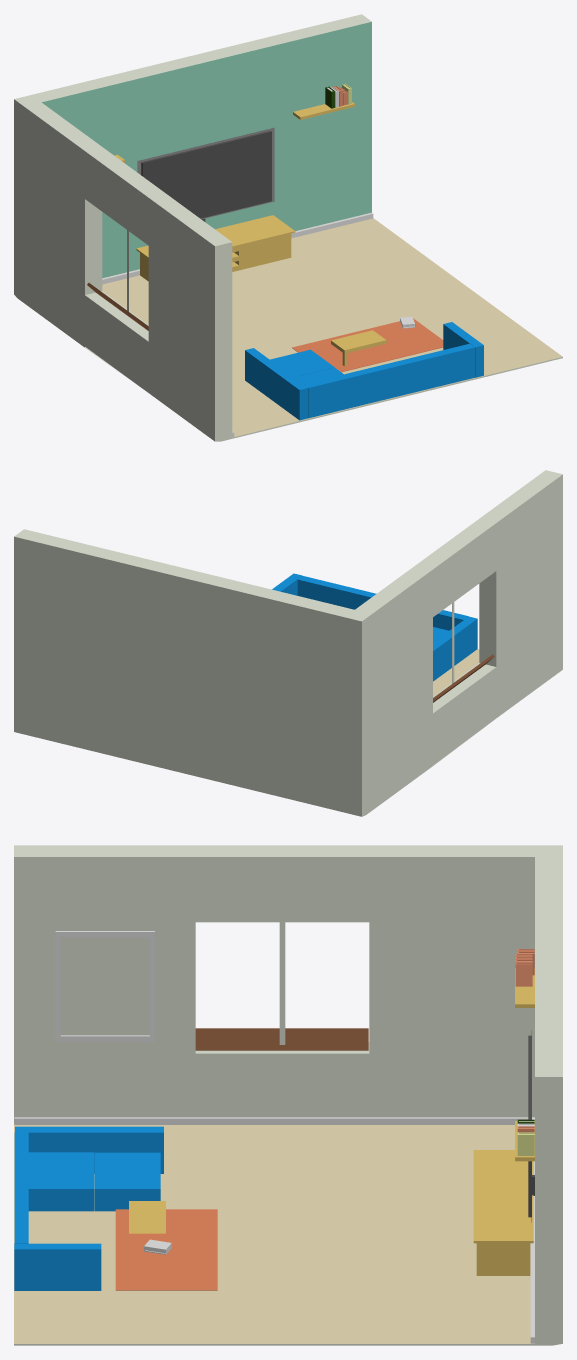
File: low_poly_course_1.glb
The picture shows the model from 3 angles, top to bottom: view 1: azimuth 30°, elevation 25°; view 2: azimuth 150°, elevation 25°; view 3: azimuth 270°, elevation 25°; orthographic projection. The views are drawn at different scales.
Parts seen in each view (by area): view 1: Cube, Cube.008, Cube.004, Cube.002, Cube.009, Cube.005, Cube.007, Cube.003, Cube.001, Cube.010; view 2: Cube, Cube.004, Cube.005; view 3: Cube, Cube.002, Cube.009, Cube.010, Cube.003, Cube.006, Cube.038, Cube.005, Cube.007, Cube.037, Cube.004, Cube.001.
Part boxes in pixels (x1,y1,x2,y2): Cube: [14, 14, 562, 441]; Cube.008: [137, 127, 274, 219]; Cube.004: [304, 343, 474, 418]; Cube.002: [292, 318, 443, 372]; Cube.009: [136, 215, 295, 281]; Cube.005: [245, 348, 308, 420]; Cube.007: [270, 349, 334, 377]; Cube.003: [443, 322, 483, 377]; Cube.001: [331, 330, 386, 366]; Cube.010: [102, 212, 373, 437]; Cube: [14, 470, 562, 816]; Cube.004: [297, 576, 468, 630]; Cube.005: [433, 616, 477, 681]; Cube: [14, 845, 562, 1345]; Cube.002: [115, 1209, 217, 1290]; Cube.009: [473, 1150, 533, 1275]; Cube.010: [14, 1117, 534, 1343]; Cube.003: [14, 1243, 101, 1290]; Cube.006: [28, 1152, 94, 1211]; Cube.038: [195, 1028, 368, 1050]; Cube.005: [15, 1126, 163, 1173]; Cube.007: [94, 1152, 160, 1211]; Cube.037: [55, 931, 154, 1041]; Cube.004: [14, 1132, 28, 1243]; Cube.001: [129, 1201, 165, 1233].
Bounding box in the file's own units: 6.1 × 3.3 × 6.11.
